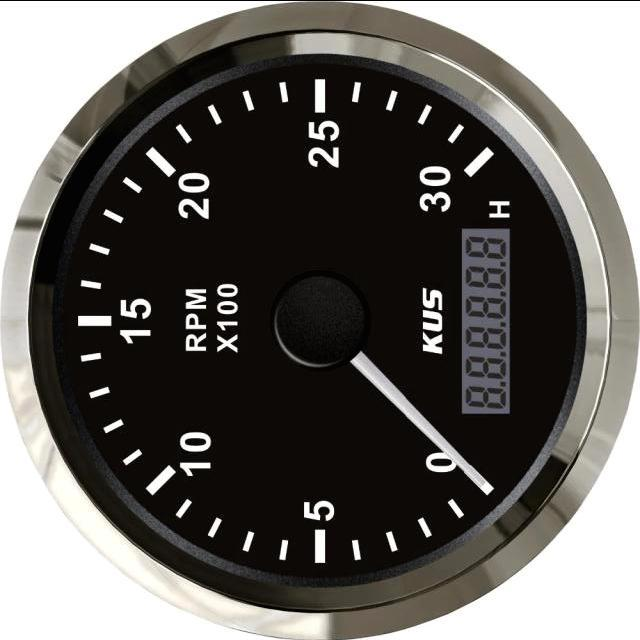Needle_Tip: (457, 456, 517, 510)
Needle_base: (269, 251, 391, 379)
max_value: (404, 144, 466, 232)
min_value: (423, 444, 458, 477)
